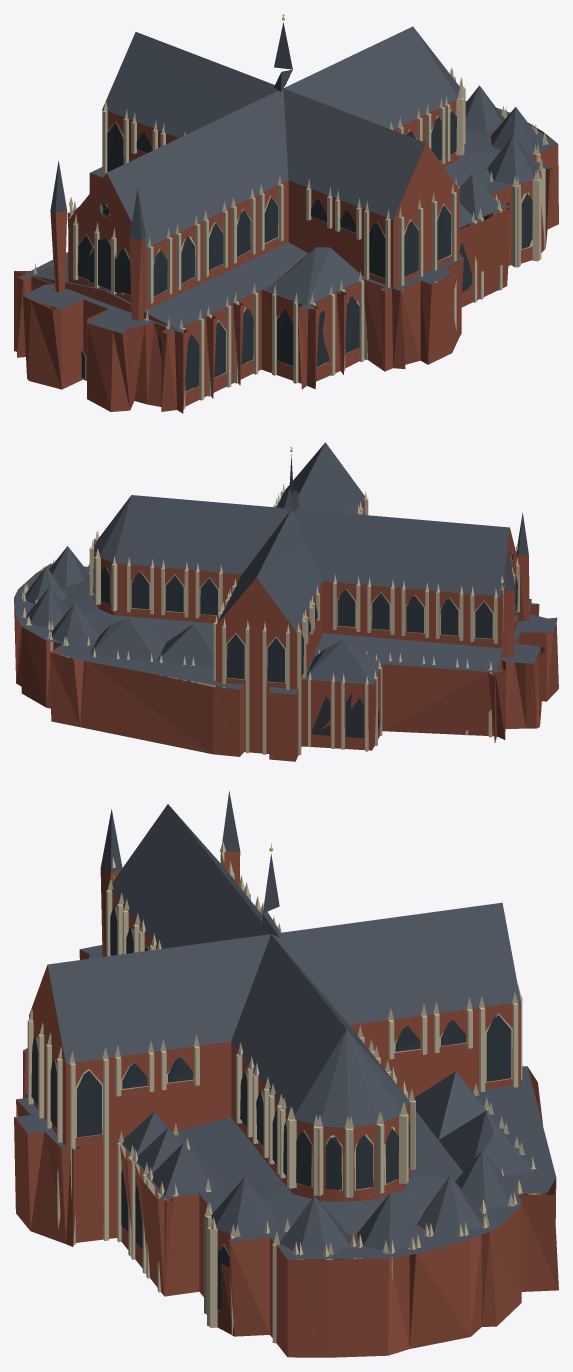
Rendered from nieuwe-kerk.lod1.glb.
3 views of the same model, one above another, from view 1: azimuth 30°, elevation 25°; view 2: azimuth 150°, elevation 25°; view 3: azimuth 270°, elevation 25° (orthographic). The views are drawn at different scales.
Parts seen in each view (by area): view 1: nieuwe-kerk; view 2: nieuwe-kerk; view 3: nieuwe-kerk.
Part boxes in pixels (left/top/right/bottom): nieuwe-kerk: left=14, top=14, right=558, bottom=413; nieuwe-kerk: left=14, top=442, right=558, bottom=761; nieuwe-kerk: left=14, top=791, right=558, bottom=1357.
Bounding box in the file's own units: 94.85 × 46 × 65.74.
